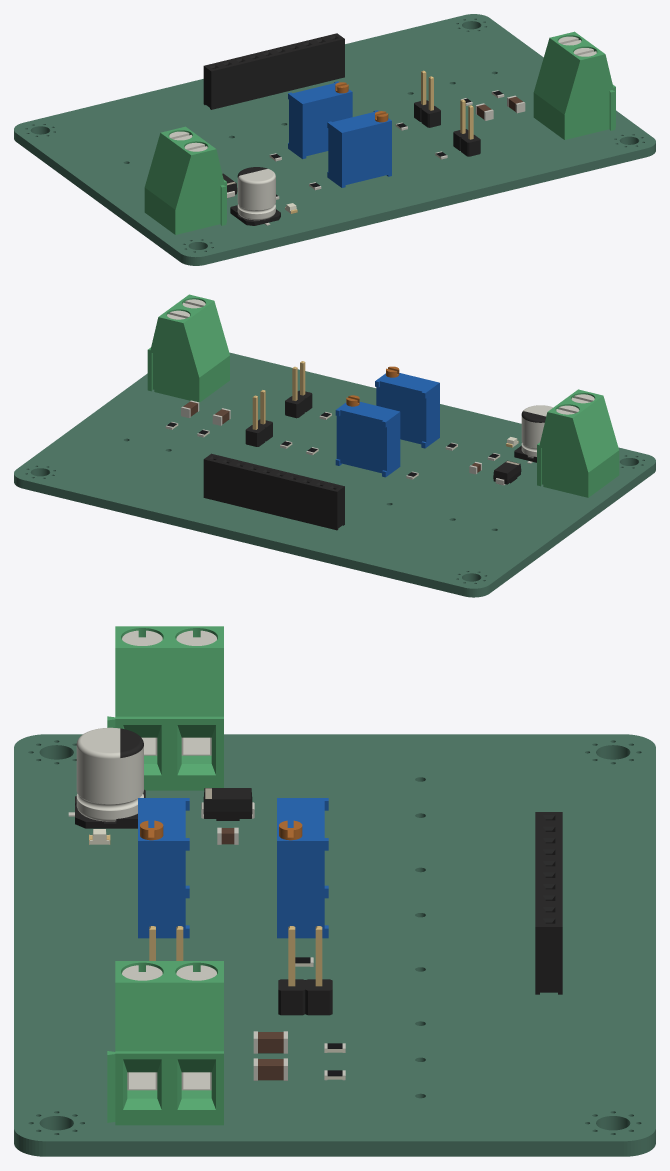
File: psh-jig1.glb
The picture shows the model from 3 angles, top to bottom: view 1: azimuth 30°, elevation 25°; view 2: azimuth 150°, elevation 25°; view 3: azimuth 270°, elevation 25°; orthographic projection. The views are drawn at different scales.
Visible parts, largest first — view 1: =>[0:1:1:22], =>[0:1:1:7] (×2), =>[0:1:1:11] (×2), =>[0:1:1:15], =>[0:1:1:17], =>[0:1:1:5] (×2); view 2: =>[0:1:1:22], =>[0:1:1:7] (×2), =>[0:1:1:11] (×2), =>[0:1:1:15], =>[0:1:1:5] (×2), =>[0:1:1:17], =>[0:1:1:21]; view 3: =>[0:1:1:22], =>[0:1:1:7] (×2), =>[0:1:1:11] (×2), =>[0:1:1:17], =>[0:1:1:15], =>[0:1:1:5], =>[0:1:1:21], =>[0:1:1:9] (×2).
Part boxes in pixels (x1,y1,x2,y2): =>[0:1:1:22]: (14, 14, 655, 265); =>[0:1:1:7] (×2): (144, 31, 615, 234); =>[0:1:1:11] (×2): (288, 81, 391, 187); =>[0:1:1:15]: (203, 33, 344, 109); =>[0:1:1:17]: (230, 167, 280, 225); =>[0:1:1:5] (×2): (414, 70, 480, 156); =>[0:1:1:22]: (14, 352, 655, 597); =>[0:1:1:7] (×2): (147, 294, 619, 497); =>[0:1:1:11] (×2): (335, 366, 439, 477); =>[0:1:1:15]: (203, 453, 344, 530); =>[0:1:1:5] (×2): (245, 361, 312, 446); =>[0:1:1:17]: (514, 405, 552, 463); =>[0:1:1:21]: (493, 460, 521, 485); =>[0:1:1:22]: (14, 734, 655, 1156); =>[0:1:1:7] (×2): (107, 626, 223, 1125); =>[0:1:1:11] (×2): (138, 798, 328, 938); =>[0:1:1:17]: (68, 727, 145, 828); =>[0:1:1:15]: (535, 812, 562, 994); =>[0:1:1:5]: (278, 926, 332, 1015); =>[0:1:1:21]: (201, 788, 254, 820); =>[0:1:1:9] (×2): (253, 1031, 287, 1080).
Size of the model in its own units: 90 by 19.82 by 60.
